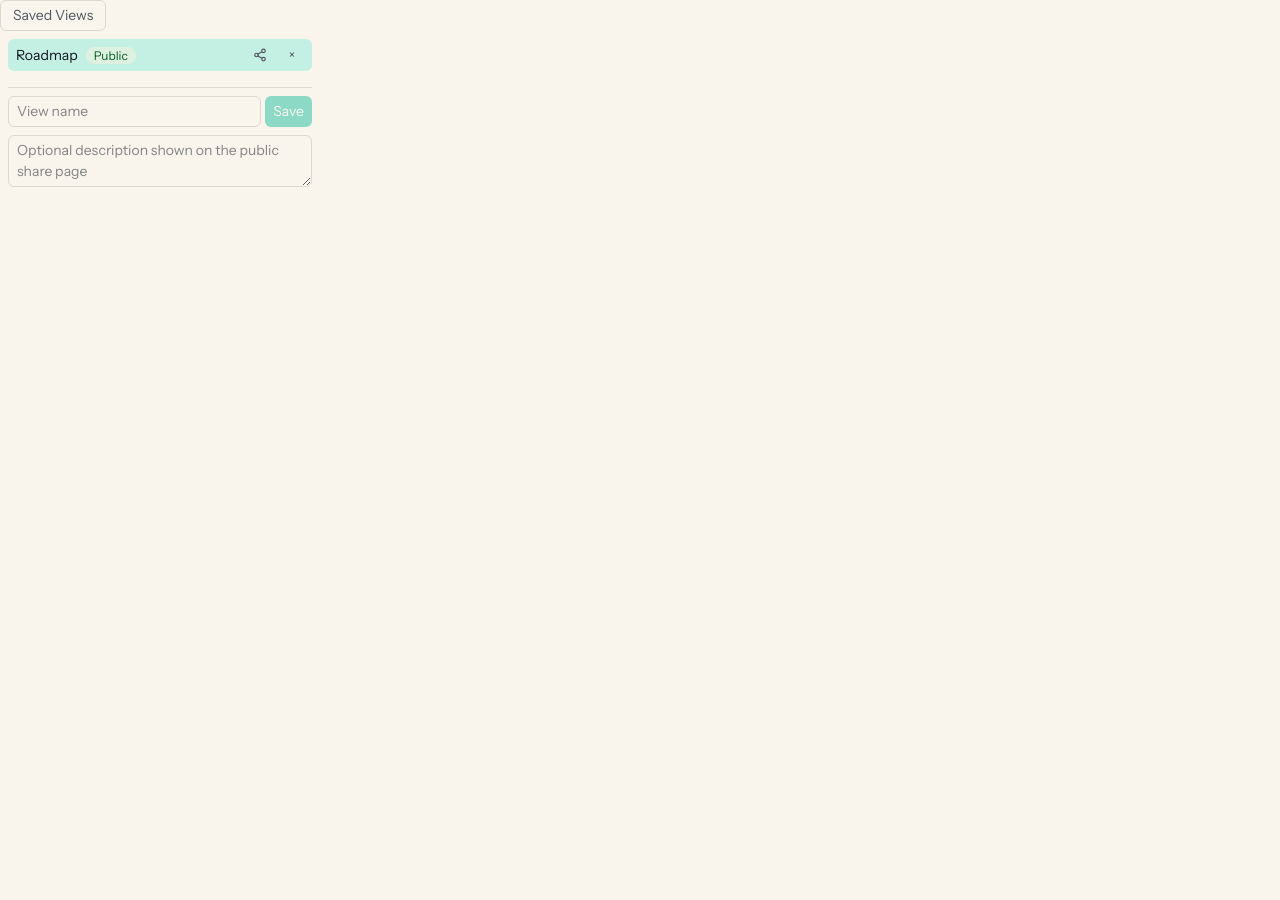
Test case: LensPicker share dialog wiring › opens the already-published branch for a lens that is public
The width and height of the screenshot is (1280, 900).
Click the button named "Share view".
click(260, 55)  # box [248, 43, 272, 67]
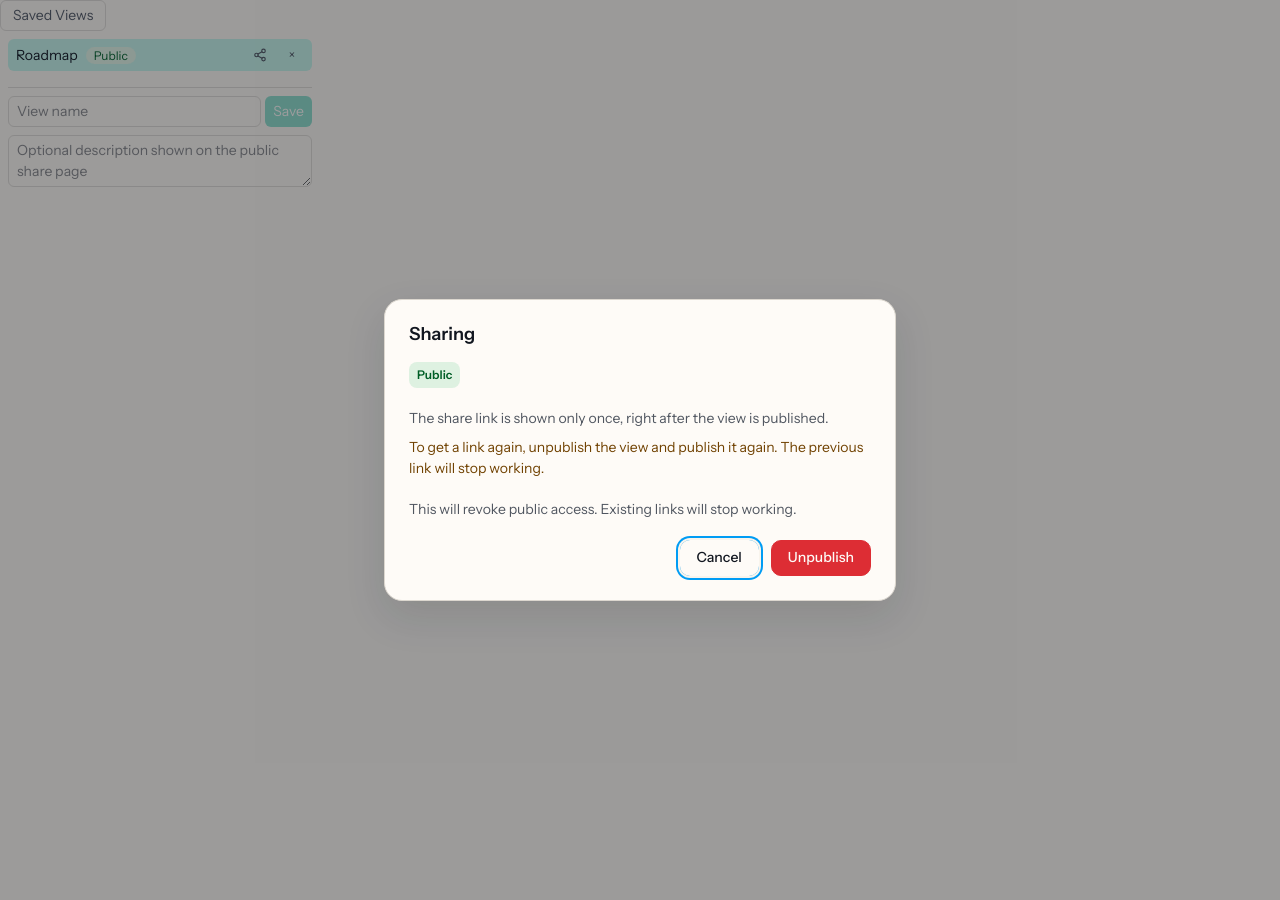
Expected: the text "The share link is shown only once, right after the view is published." is shown, [409, 408, 871, 429]
Expected: the button "Unpublish" is shown, [771, 540, 871, 576]
